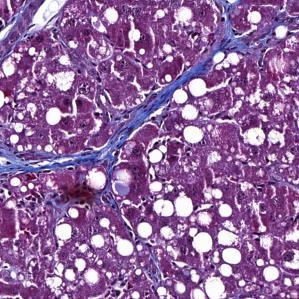fibrosis: (0, 134, 102, 187), (111, 83, 186, 139), (195, 12, 260, 58)
